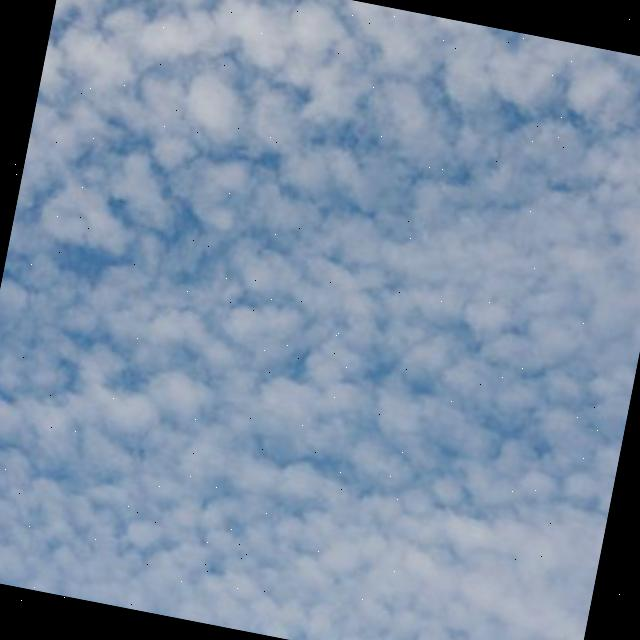Ac: (1, 1, 640, 594)
